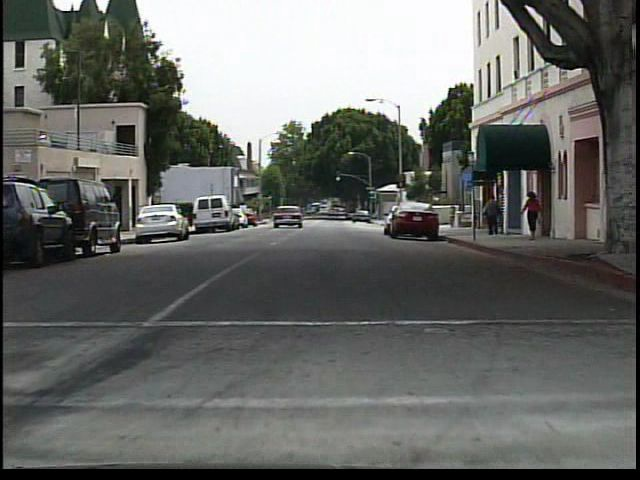person: (521, 186, 544, 242), (480, 192, 502, 238)
